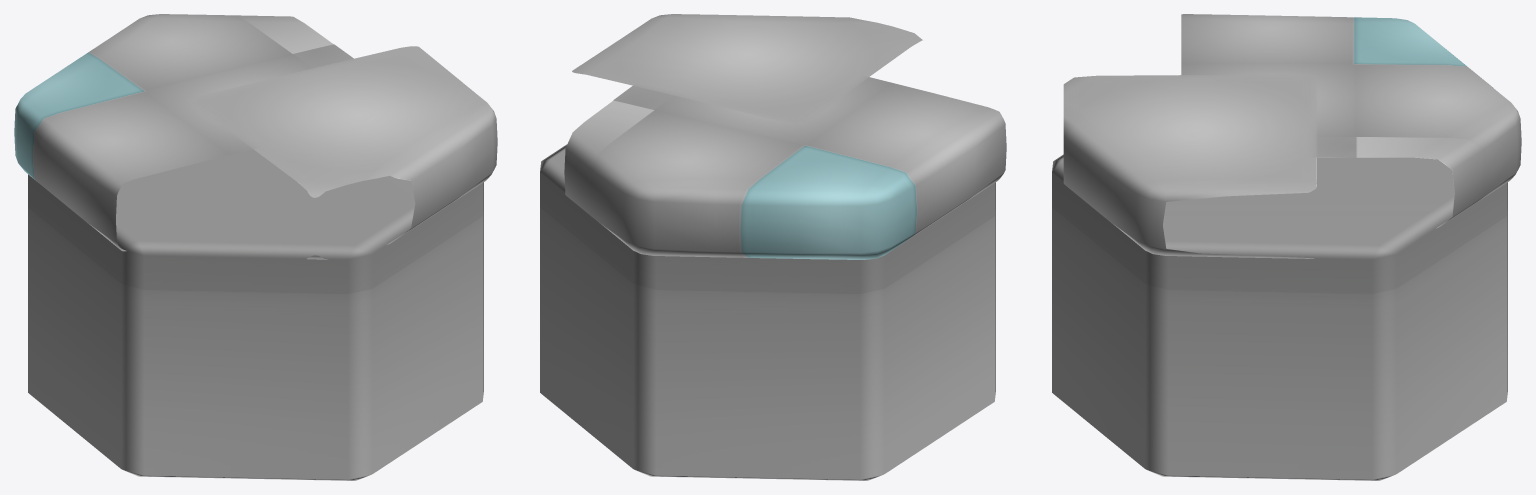
File: tile mateo.fbx
The picture shows the model from 3 angles, left to right: view 1: azimuth 30°, elevation 25°; view 2: azimuth 150°, elevation 25°; view 3: azimuth 270°, elevation 25°; orthographic projection.
Parts seen in each view (by area): view 1: Cylinder.133, Cylinder.134; view 2: Cylinder.133, Cylinder.134; view 3: Cylinder.133, Cylinder.134.
Boxes of the visible parts, x1,y1,x2,y2 form: Cylinder.133: (28,149,483,480); Cylinder.134: (14,14,497,259); Cylinder.133: (540,144,995,480); Cylinder.134: (564,14,1006,259); Cylinder.133: (1052,154,1507,480); Cylinder.134: (1063,14,1521,258).
Bounding box in the file's own units: 171 × 128 × 187.
